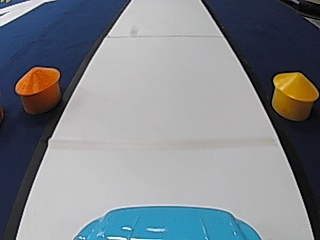granary: (268, 70, 319, 121), (13, 64, 62, 114)
